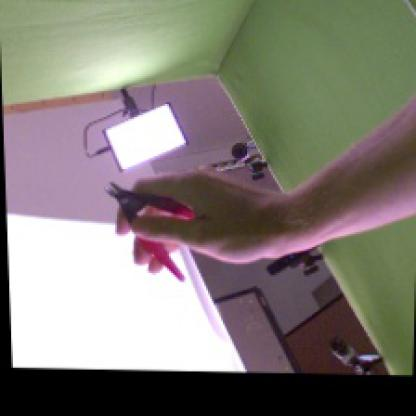Hand: (113, 166, 300, 265)
